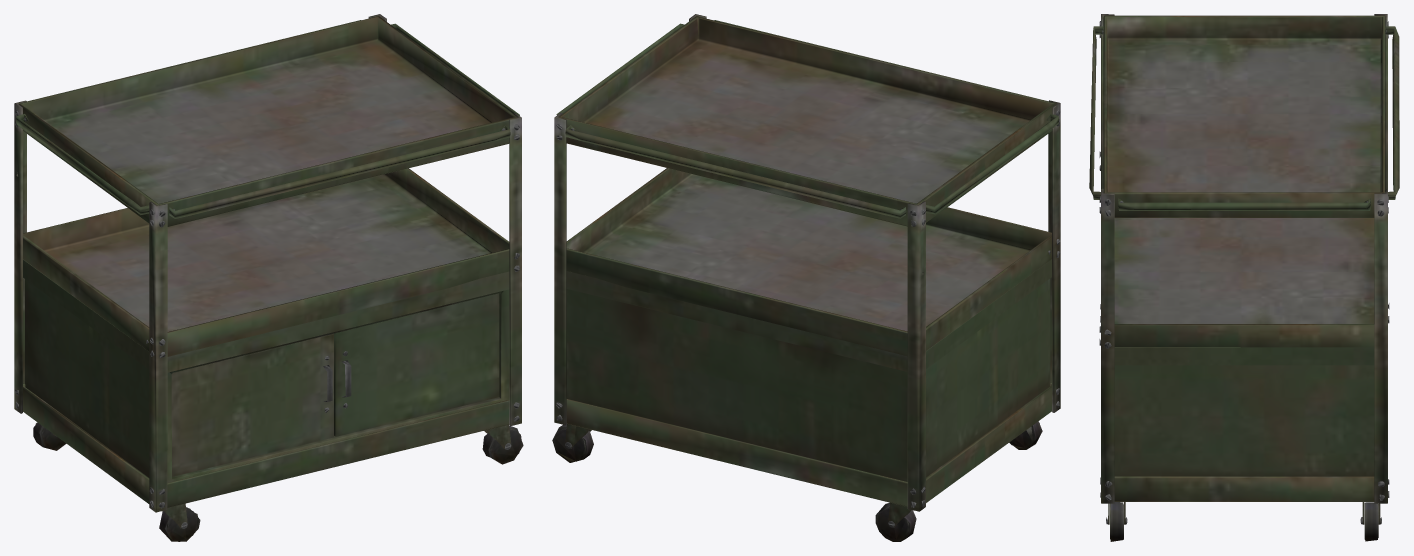
File: industrial_storage_cart.glb
3 renders of one model, left to right at view 1: azimuth 30°, elevation 25°; view 2: azimuth 150°, elevation 25°; view 3: azimuth 270°, elevation 25°, orthographic.
Parts seen in each view (by area): view 1: industrial_storage_cart; view 2: industrial_storage_cart; view 3: industrial_storage_cart.
Part boxes in pixels (<box>): industrial_storage_cart: <box>14,14,523,541</box>; industrial_storage_cart: <box>552,14,1060,541</box>; industrial_storage_cart: <box>1089,14,1399,541</box>.
Size of the model in its own units: 1.6 by 1.38 by 1.1.
Materials: 1 (1 with a texture image).
